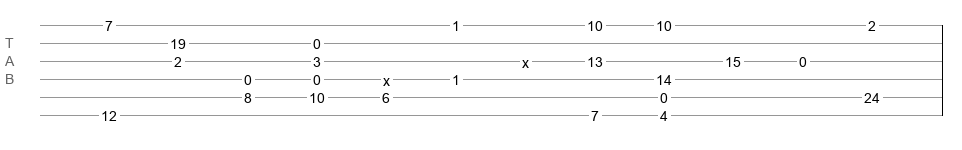0: (244, 72, 252, 82), (313, 36, 321, 46), (313, 72, 321, 82), (660, 90, 668, 100), (799, 54, 807, 64)
1: (452, 18, 460, 28), (452, 72, 460, 82)
10: (309, 90, 325, 100), (587, 18, 603, 28), (656, 18, 672, 28)
12: (101, 108, 117, 118)
13: (587, 54, 603, 64)
14: (656, 72, 672, 82)
15: (725, 54, 741, 64)
19: (170, 36, 186, 46)
2: (174, 54, 182, 64), (868, 18, 876, 28)
24: (864, 90, 880, 100)
3: (313, 54, 321, 64)
4: (660, 108, 668, 118)
6: (382, 90, 390, 100)
7: (105, 18, 113, 28), (591, 108, 599, 118)
8: (244, 90, 252, 100)
x: (383, 73, 390, 81), (522, 55, 529, 63)
